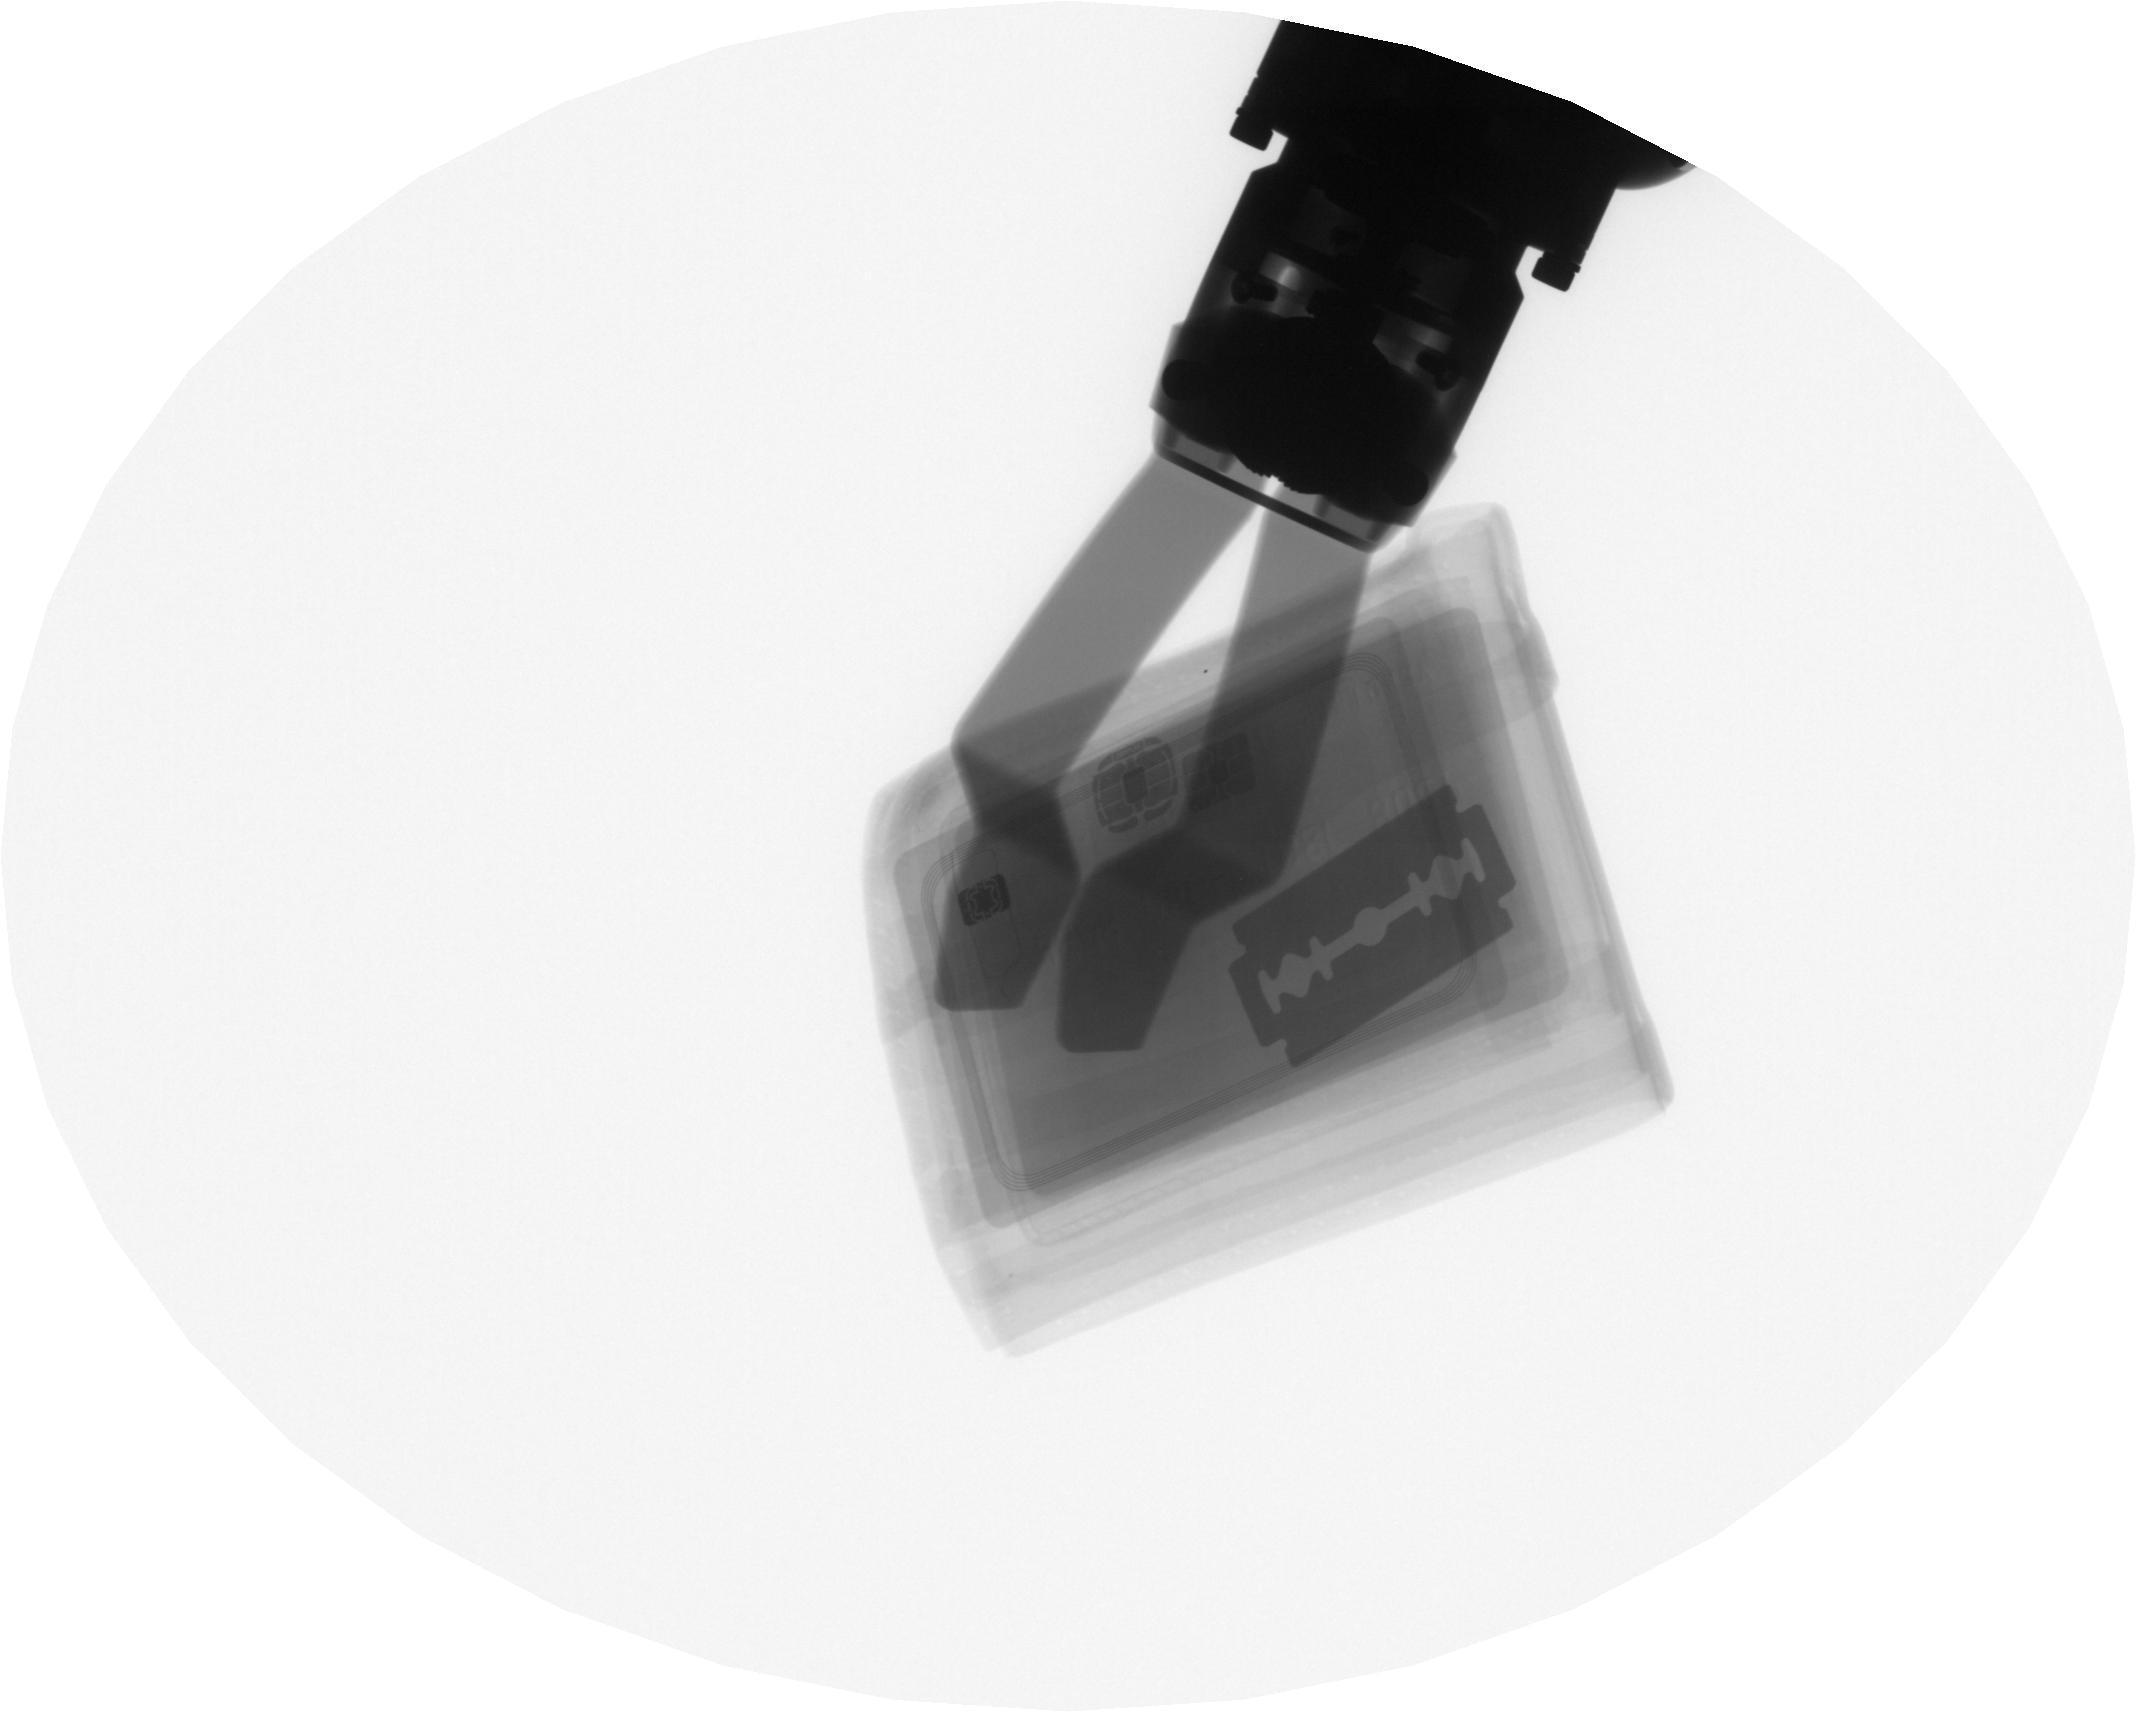RazorBlade: (1220, 779, 1526, 1074)
